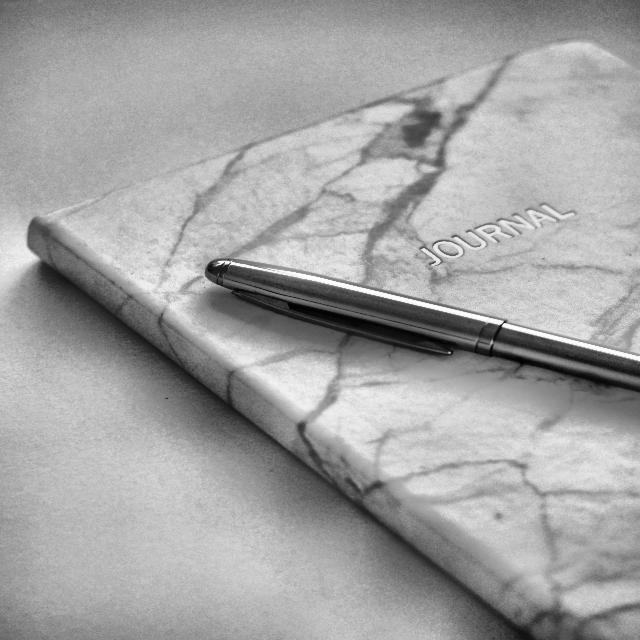Notebook: (28, 33, 640, 640)
Pen: (200, 253, 640, 400)
